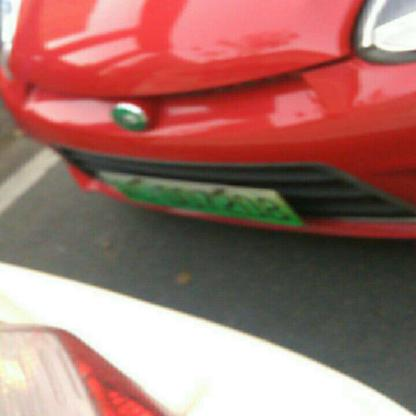lp: (97, 172, 303, 225)
